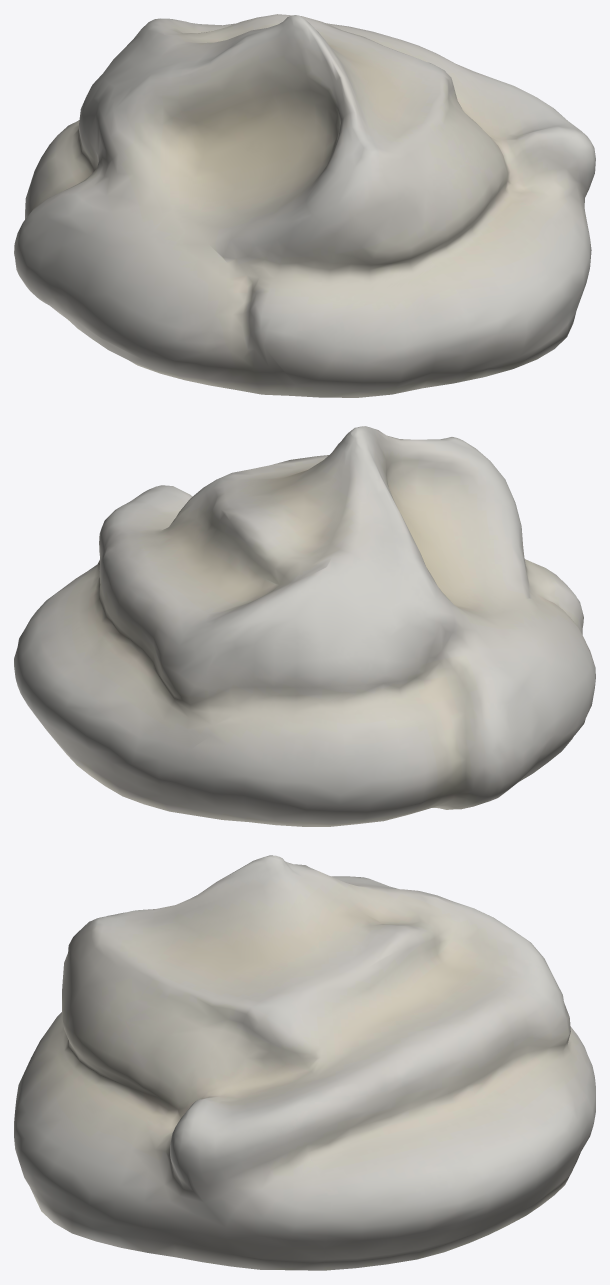
File: 019ef373-fd78-7544-a56d-a4ca13d4aedc.glb
The picture shows the model from 3 angles, top to bottom: view 1: azimuth 30°, elevation 25°; view 2: azimuth 150°, elevation 25°; view 3: azimuth 270°, elevation 25°; orthographic projection.
Parts seen in each view (by area): view 1: tripo_node_2039cb62-c48a-48a5-a9b9-6c07408ef756; view 2: tripo_node_2039cb62-c48a-48a5-a9b9-6c07408ef756; view 3: tripo_node_2039cb62-c48a-48a5-a9b9-6c07408ef756.
Part boxes in pixels (box(x1,y1,x2,y2)): tripo_node_2039cb62-c48a-48a5-a9b9-6c07408ef756: box(14, 14, 595, 397); tripo_node_2039cb62-c48a-48a5-a9b9-6c07408ef756: box(14, 426, 595, 826); tripo_node_2039cb62-c48a-48a5-a9b9-6c07408ef756: box(14, 855, 595, 1270).
Bounding box in the file's own units: 0.9902 × 0.5762 × 0.998.
1 material, 1 textured.
